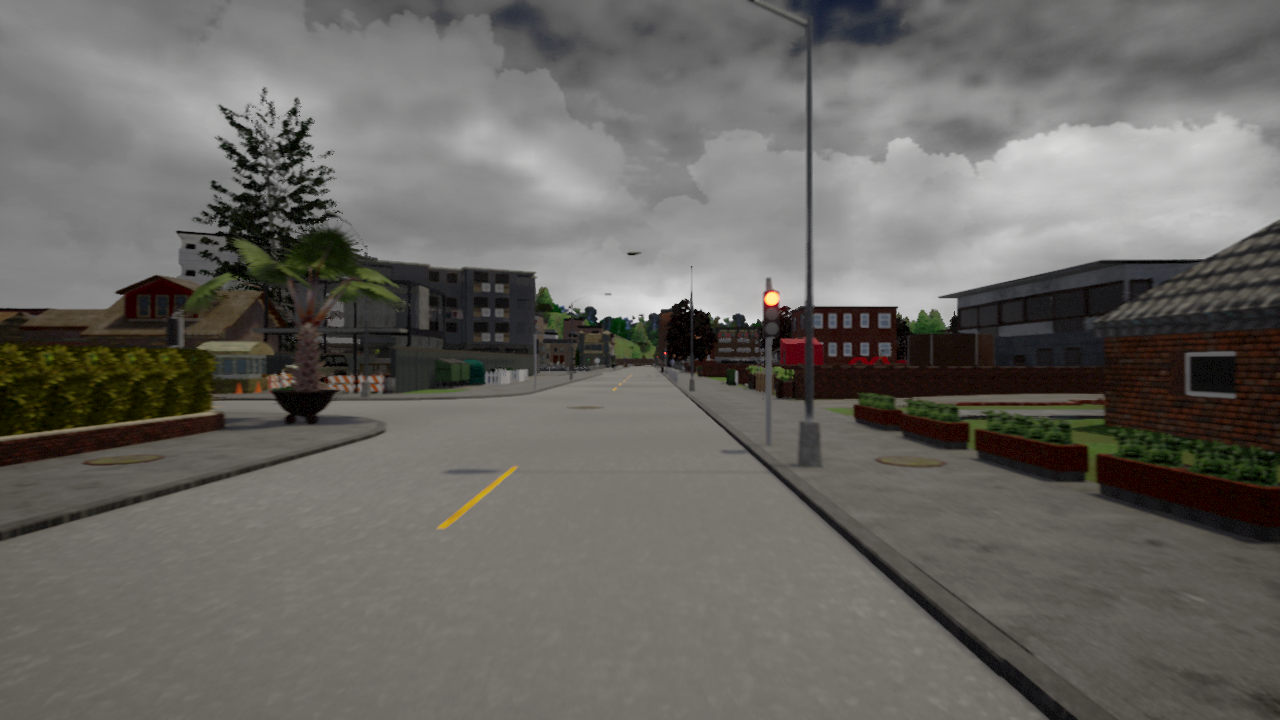red: (762, 289, 782, 339)
